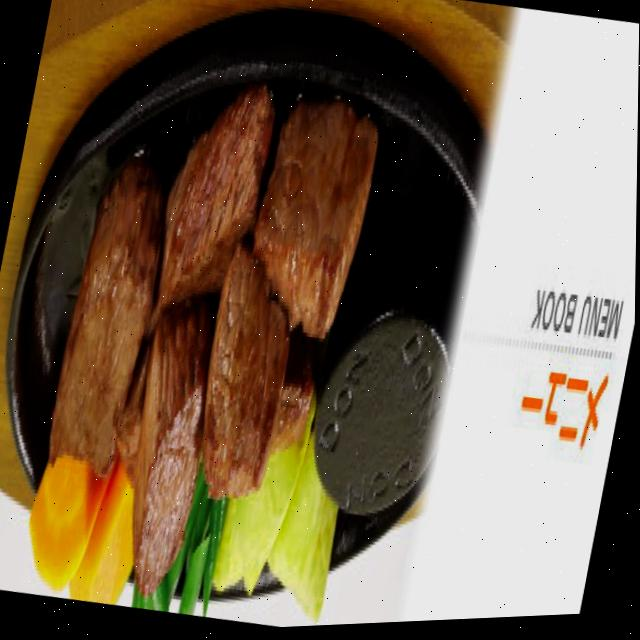牛肉菜式: (18, 22, 403, 625)
